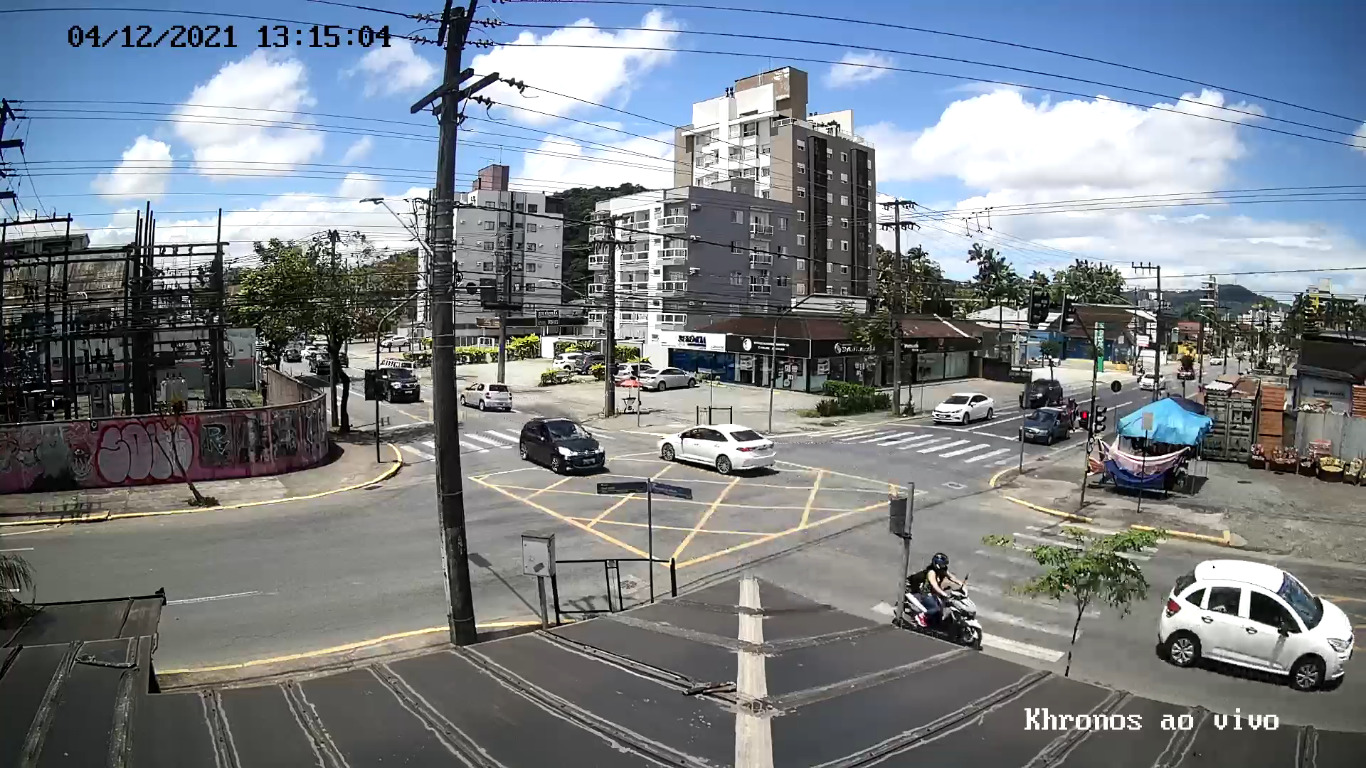car: (1159, 557, 1355, 691), (657, 423, 777, 475), (519, 416, 604, 475)
